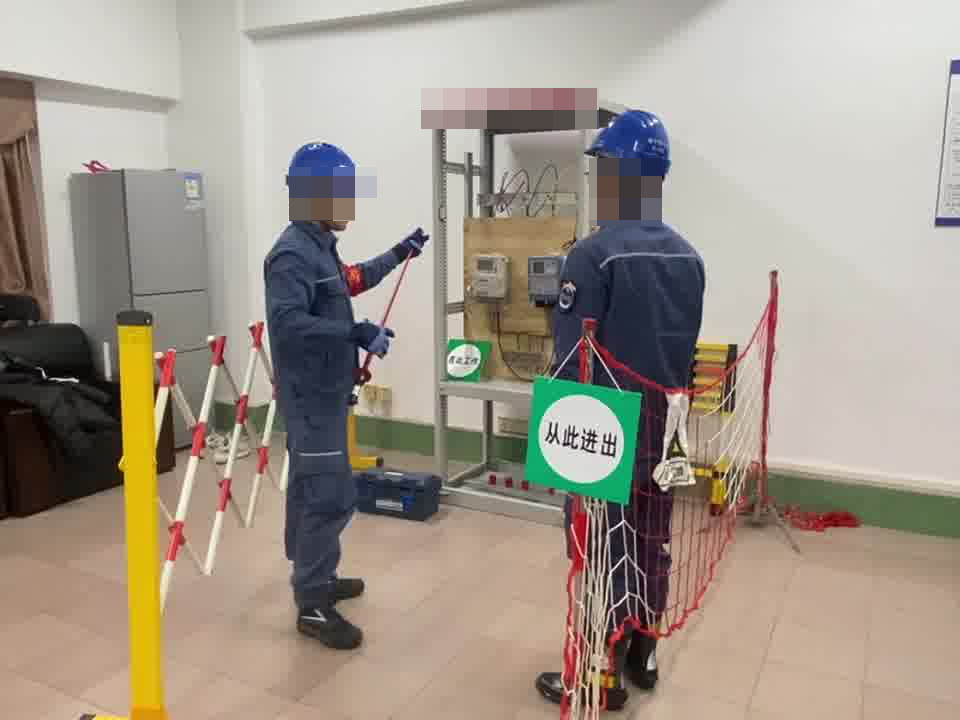badge: (341, 260, 363, 296)
downsuit: (280, 400, 360, 605)
glove: (351, 319, 394, 360), (395, 227, 431, 259)
halt: (583, 108, 674, 206), (285, 144, 367, 229)
inear: (589, 154, 628, 207), (289, 178, 332, 225)
intosign: (520, 372, 642, 508)
person: (534, 104, 711, 711), (257, 142, 418, 643), (541, 104, 712, 428)
shoe: (534, 622, 658, 713)
sleeve: (555, 280, 577, 312)
testrod: (357, 238, 415, 383)
upsuit: (553, 209, 706, 387), (261, 209, 360, 380)
worksign: (445, 338, 493, 380)
wronghold: (358, 310, 394, 384)
